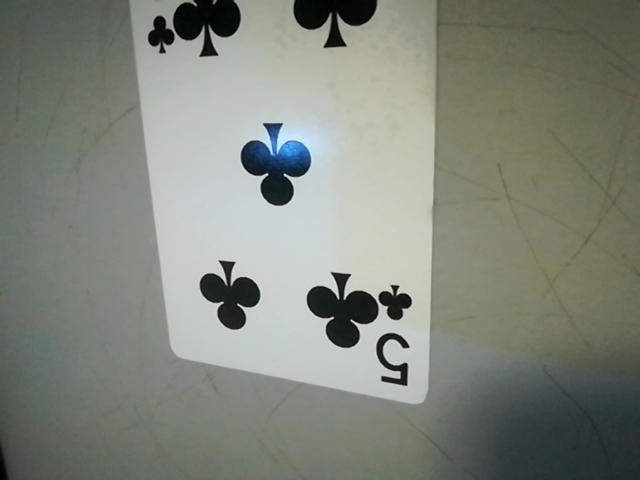mh 5: (376, 276, 426, 392)
